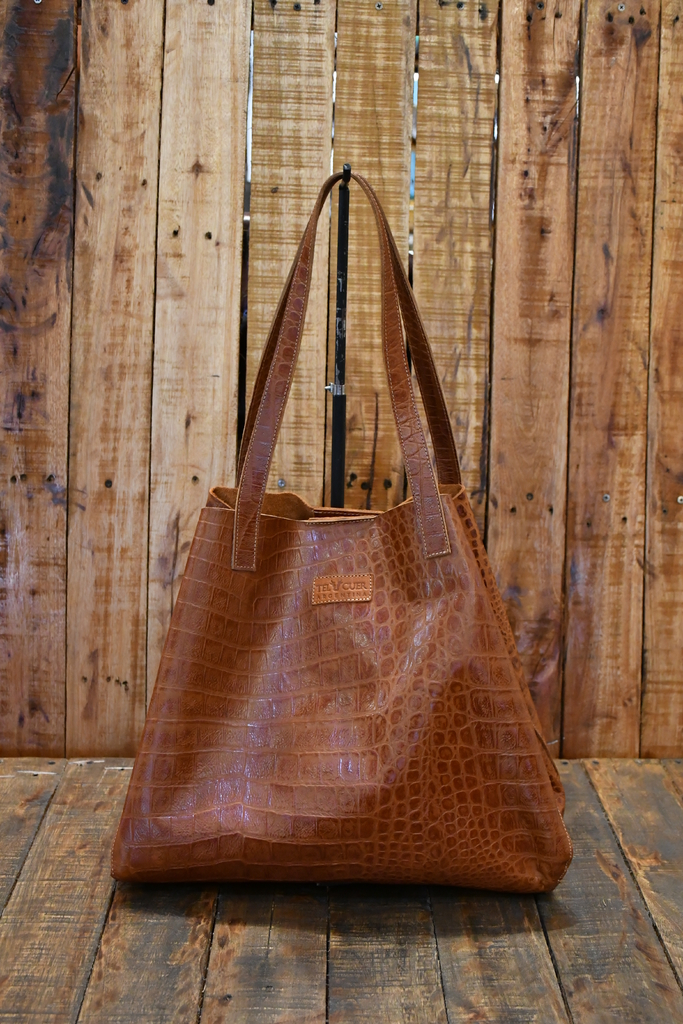cartera: (108, 165, 581, 910)
cuero: (106, 483, 574, 901)
